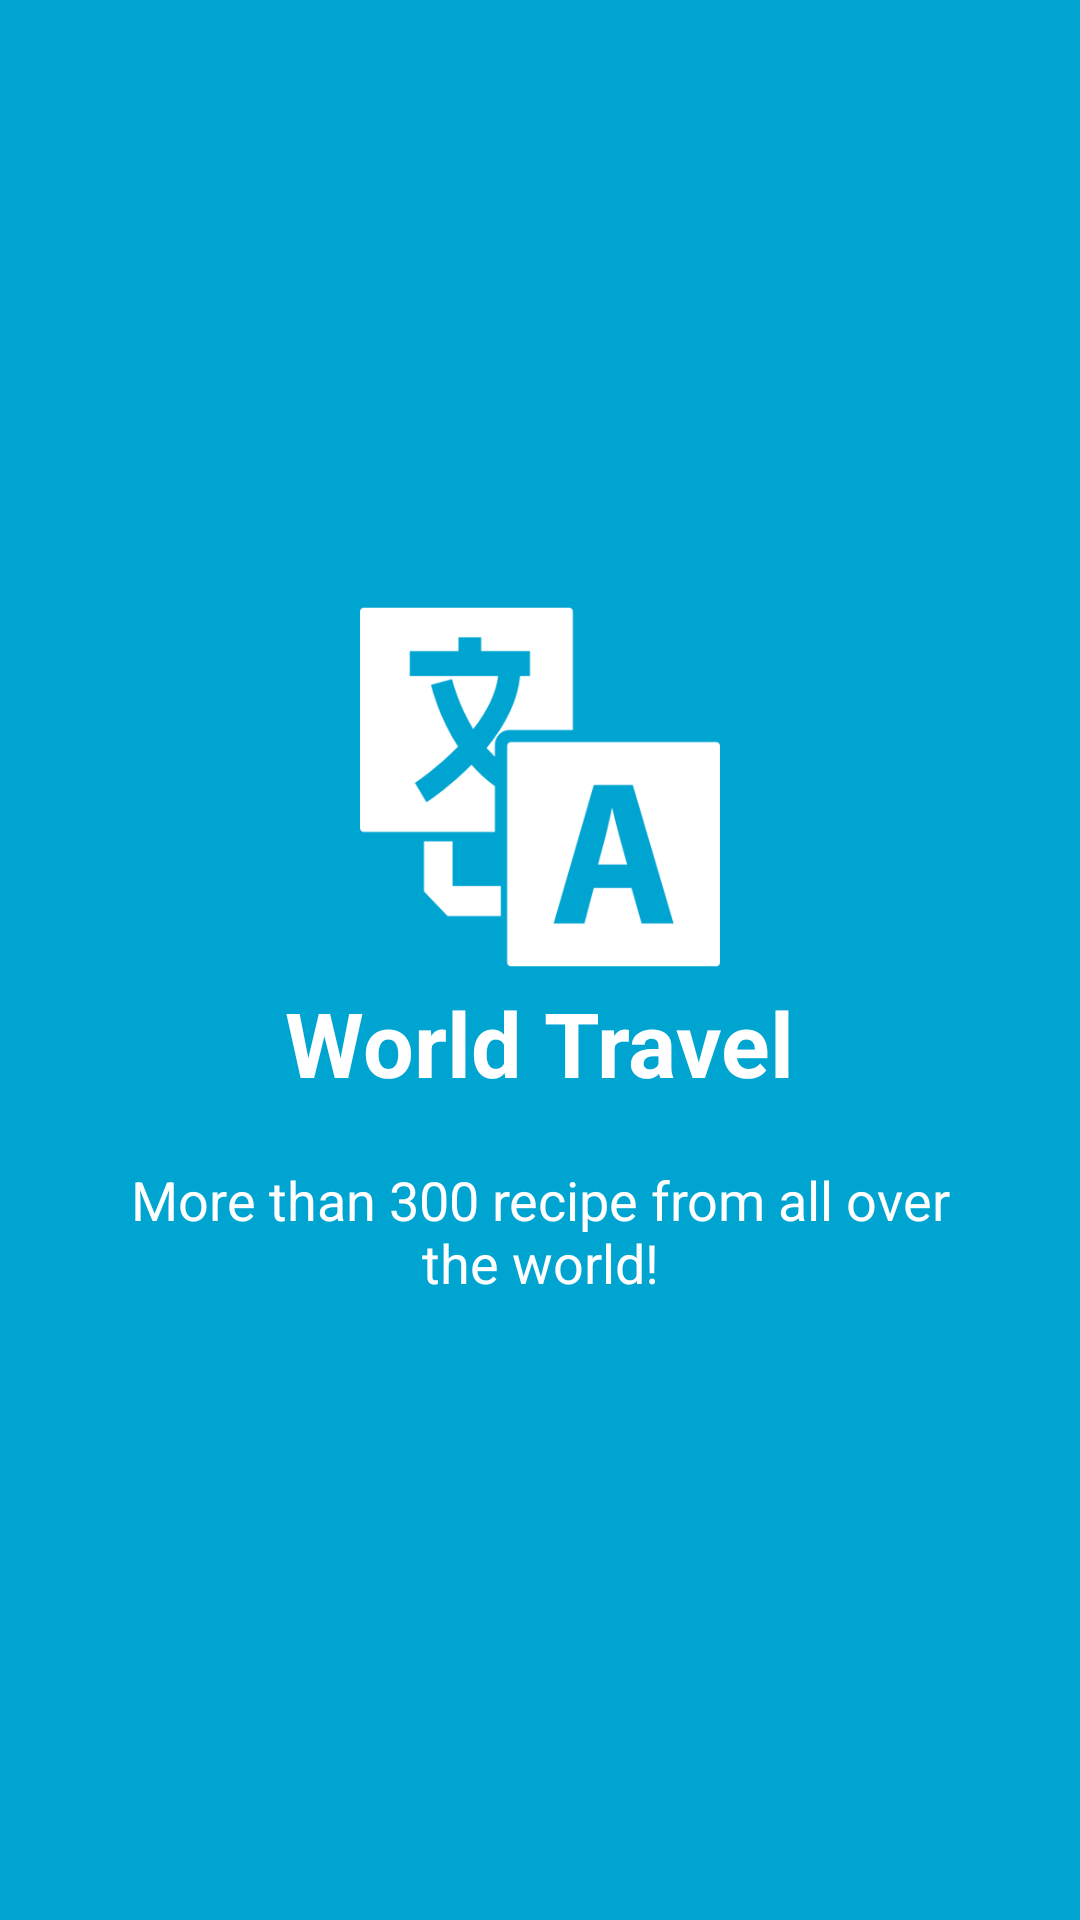

Icons on this 1080x1920 Android screen, each with the point to tap as (x,y):
lang: (540,787)
